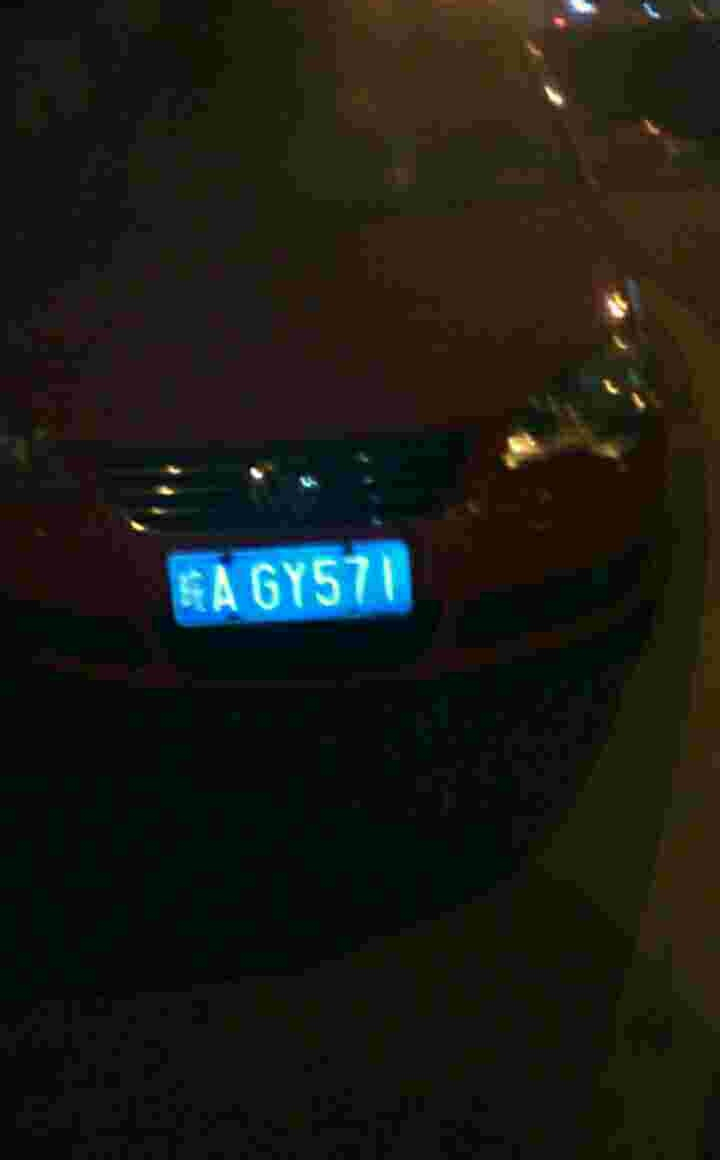license_plate: (168, 546, 412, 629)
